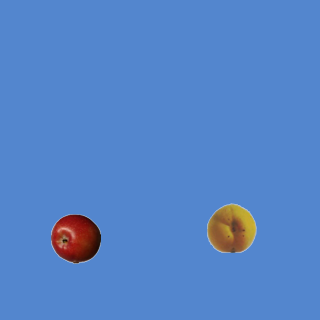Apple Braeburn: (50, 213, 100, 263)
Peach 2: (206, 202, 256, 252)
